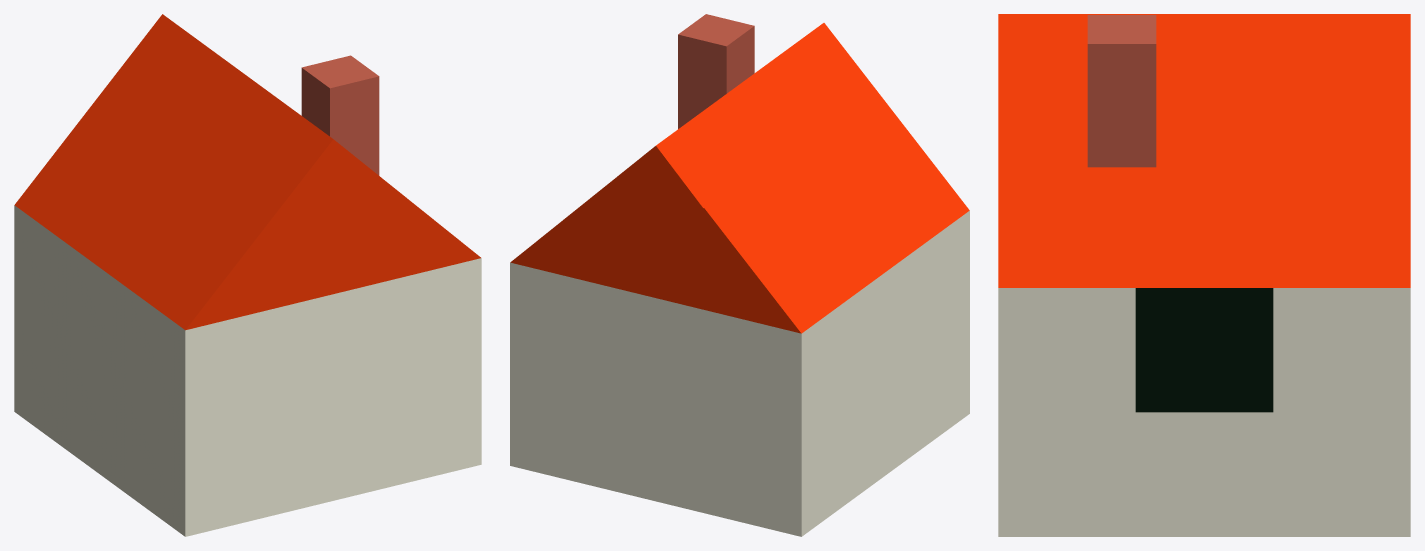
Rendered from house 2.fbx.
3 renders of one model, left to right at view 1: azimuth 30°, elevation 25°; view 2: azimuth 150°, elevation 25°; view 3: azimuth 270°, elevation 25°, orthographic. The views are drawn at different scales.
Visible parts, largest first — view 1: Cube; view 2: Cube; view 3: Cube.
Part boxes in pixels (x1=…): Cube: x1=14, y1=14, x2=481, y2=536; Cube: x1=510, y1=14, x2=969, y2=536; Cube: x1=998, y1=14, x2=1410, y2=536.
Size of the model in its own units: 600 by 730 by 600.
